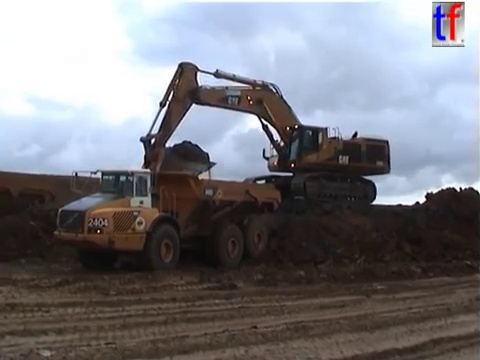excavator: (137, 59, 394, 208)
truck: (49, 161, 284, 274), (1, 169, 159, 264)
